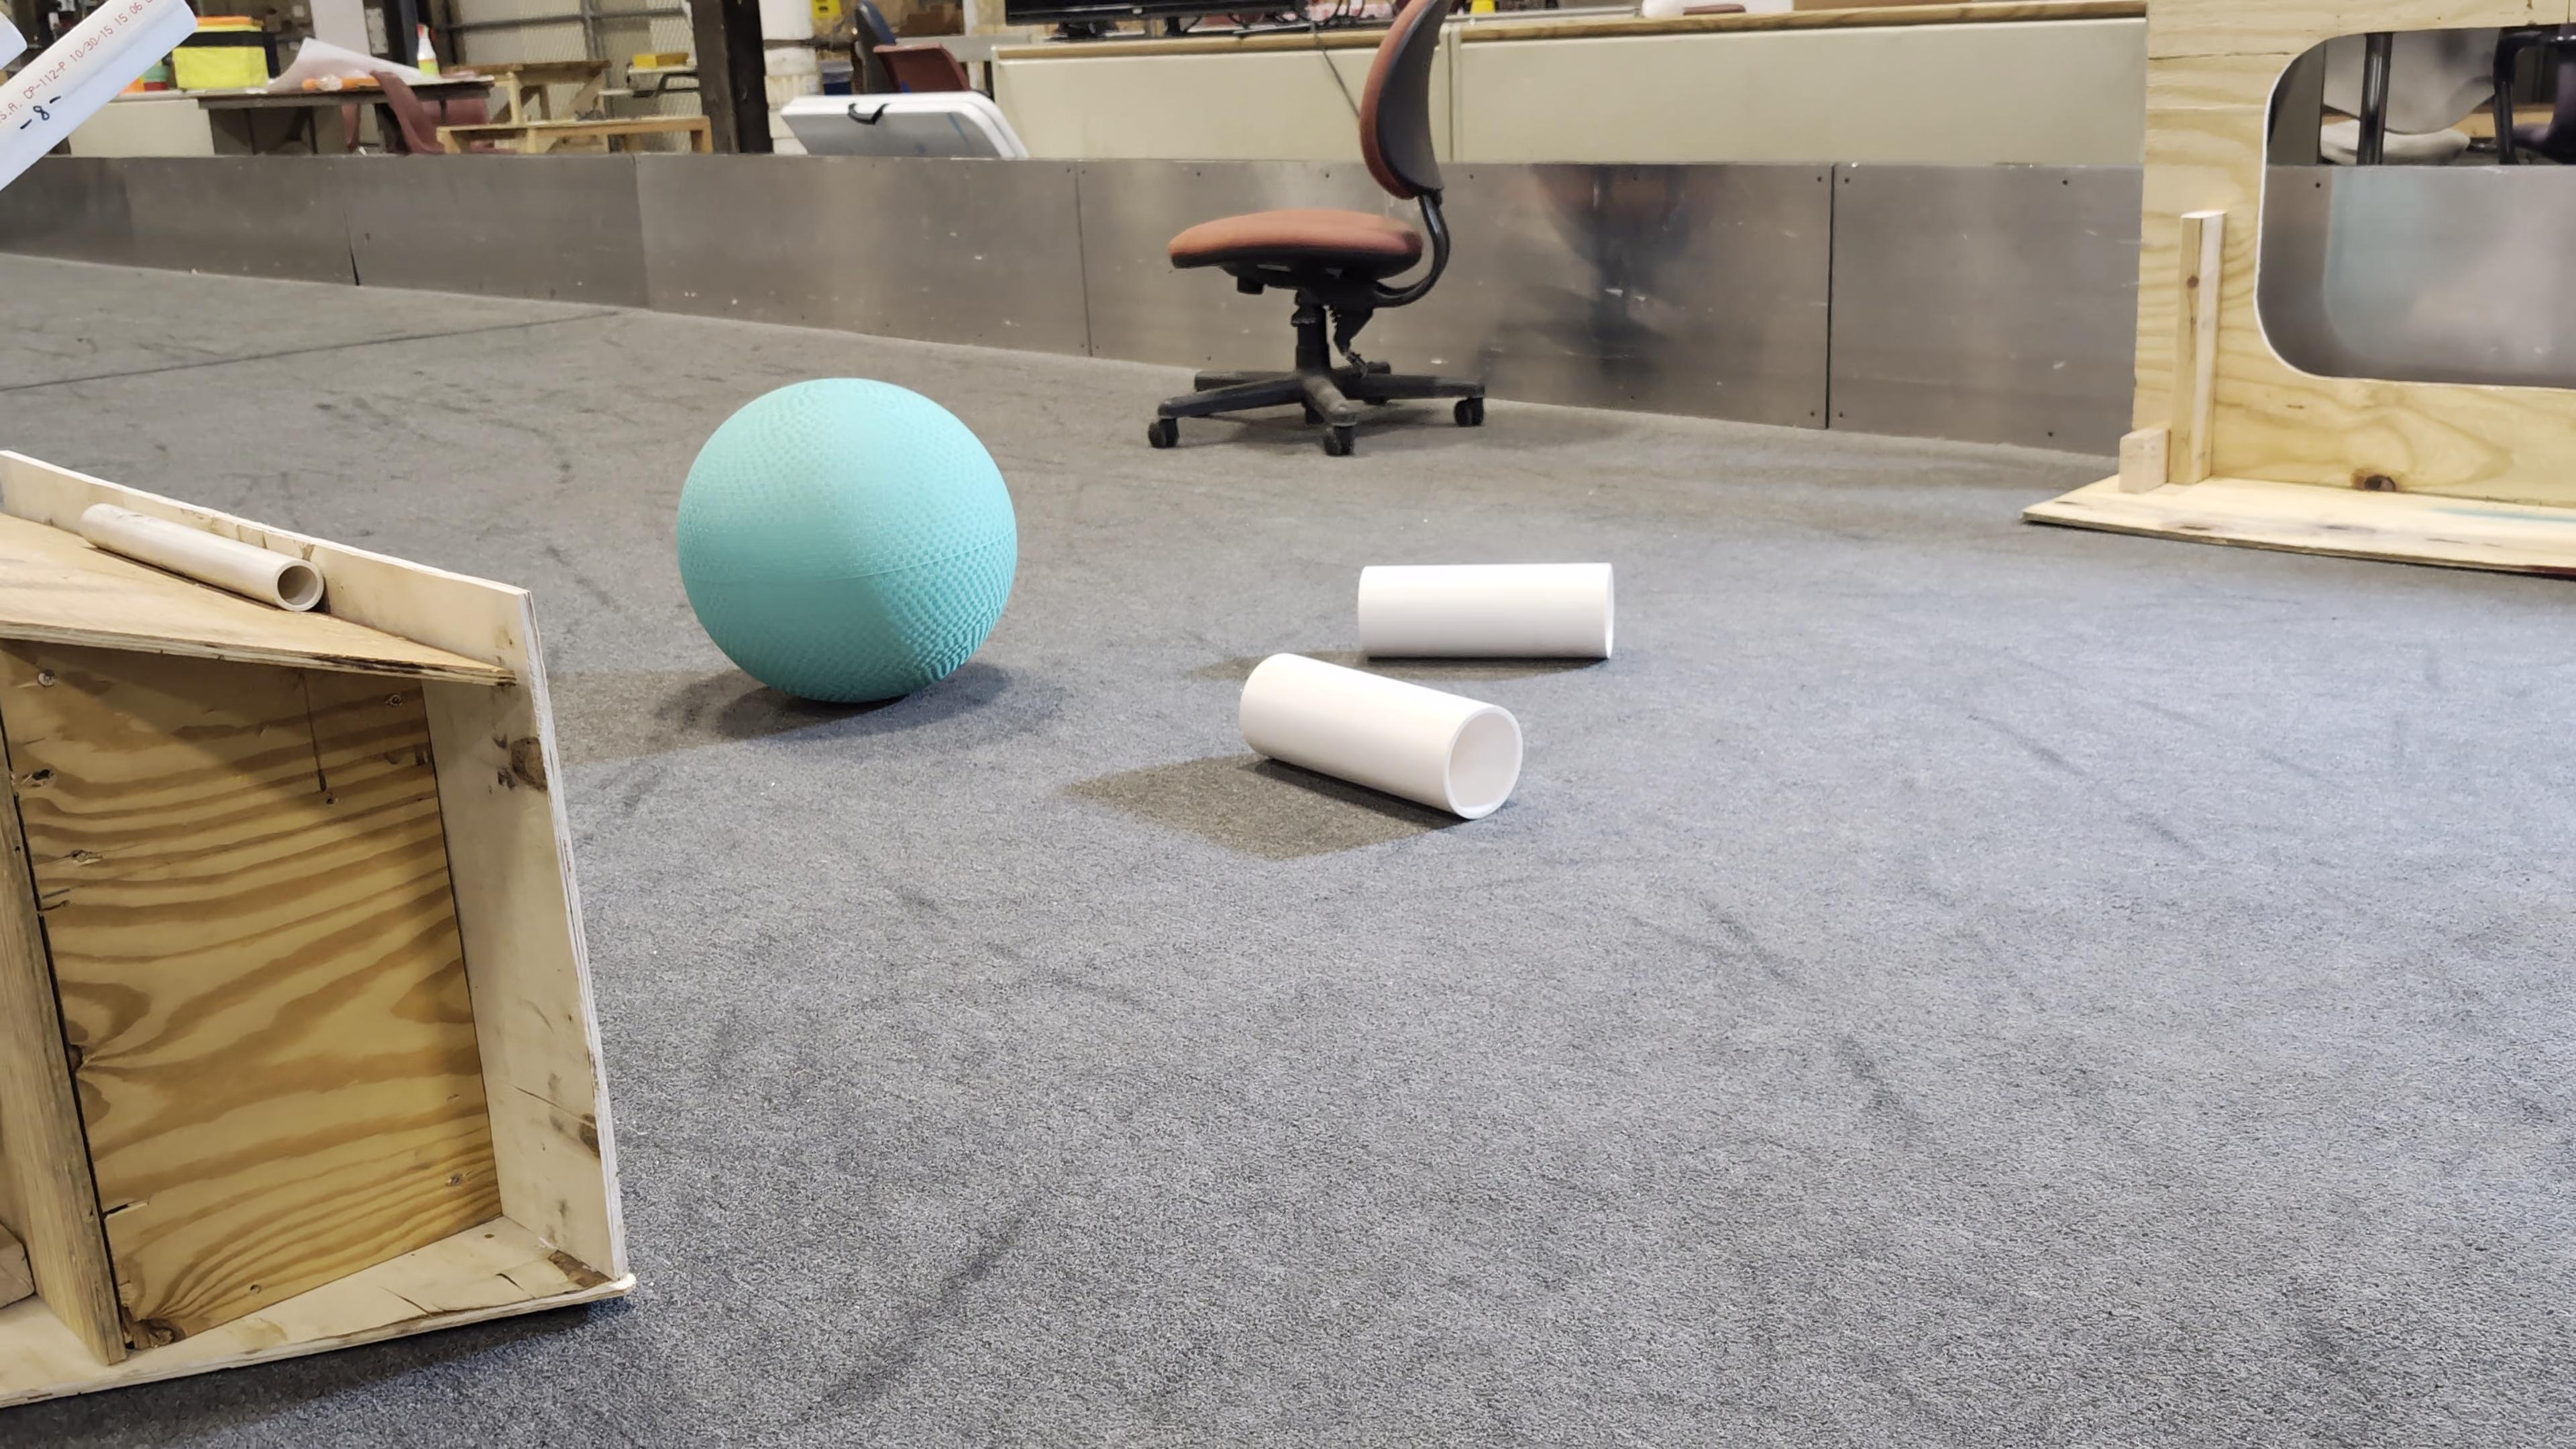algae: (677, 376, 1016, 708)
coral: (1244, 653, 1523, 818), (1361, 563, 1615, 659)
